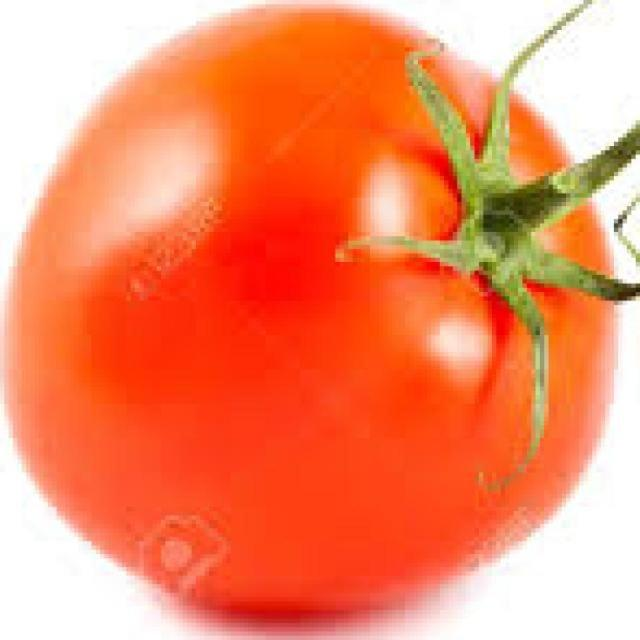Healthy Fruit: (5, 4, 417, 419)
